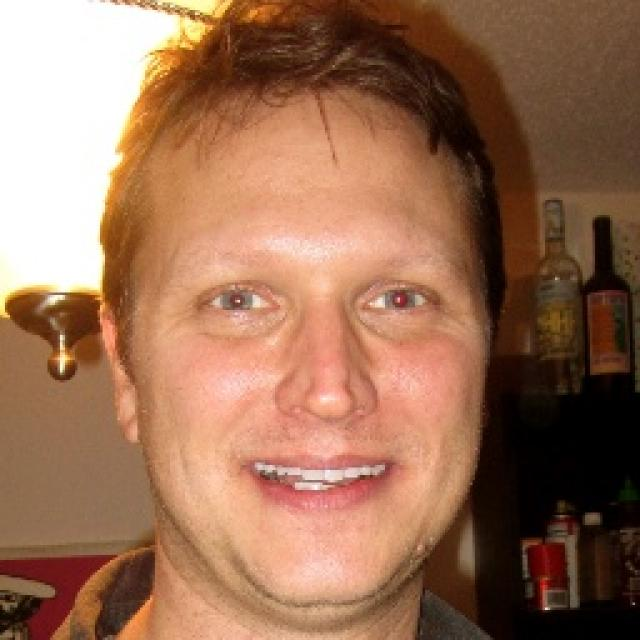earlobe: (118, 396, 140, 448)
eye: (199, 281, 277, 315), (358, 284, 446, 314)
nose: (280, 407, 375, 453)
wholeear: (96, 304, 140, 450)
